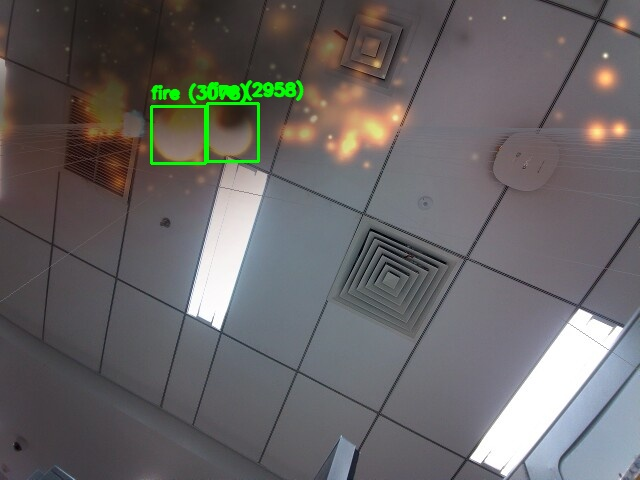fire: (151, 106, 205, 163), (207, 103, 258, 161)
